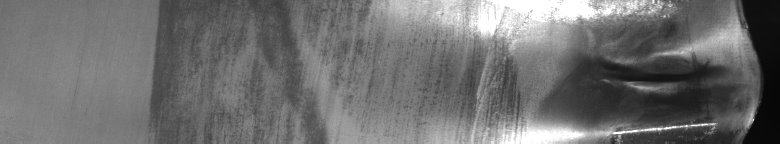ke: (578, 0, 771, 144)
